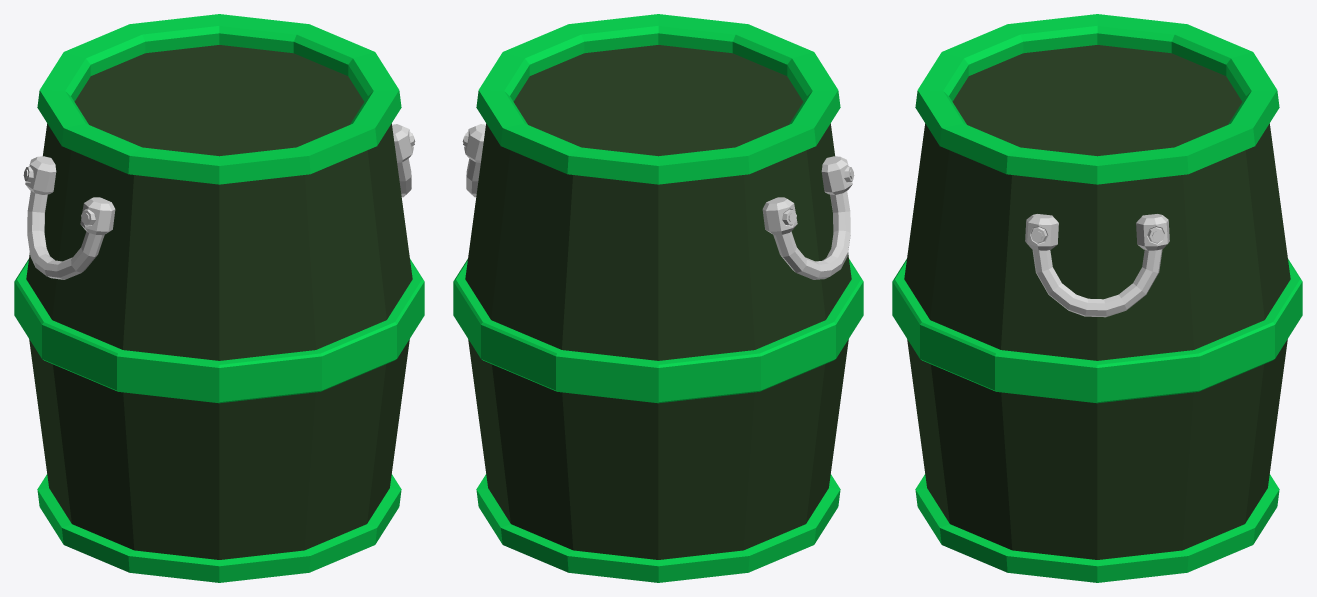
File: SM_barrel_b.fbx
3 views of the same model, side by side, from view 1: azimuth 30°, elevation 25°; view 2: azimuth 150°, elevation 25°; view 3: azimuth 270°, elevation 25° (orthographic).
Visible parts, largest first — view 1: SM_barrel_b_c, SM_barrel_b_a, SM_barrel_b_b; view 2: SM_barrel_b_c, SM_barrel_b_a, SM_barrel_b_b; view 3: SM_barrel_b_c, SM_barrel_b_b.
Part boxes in pixels (x1,y1,x2,y2): SM_barrel_b_c: [14, 14, 424, 582]; SM_barrel_b_a: [23, 156, 115, 279]; SM_barrel_b_b: [392, 124, 415, 197]; SM_barrel_b_c: [453, 14, 863, 582]; SM_barrel_b_a: [762, 156, 854, 279]; SM_barrel_b_b: [462, 124, 485, 197]; SM_barrel_b_c: [892, 14, 1302, 582]; SM_barrel_b_b: [1025, 214, 1169, 317].
Bounding box in the file's own units: 1.81 × 2.02 × 1.8.
